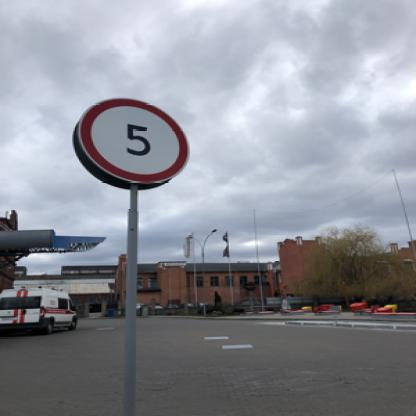speedlimit: (74, 95, 188, 182)
